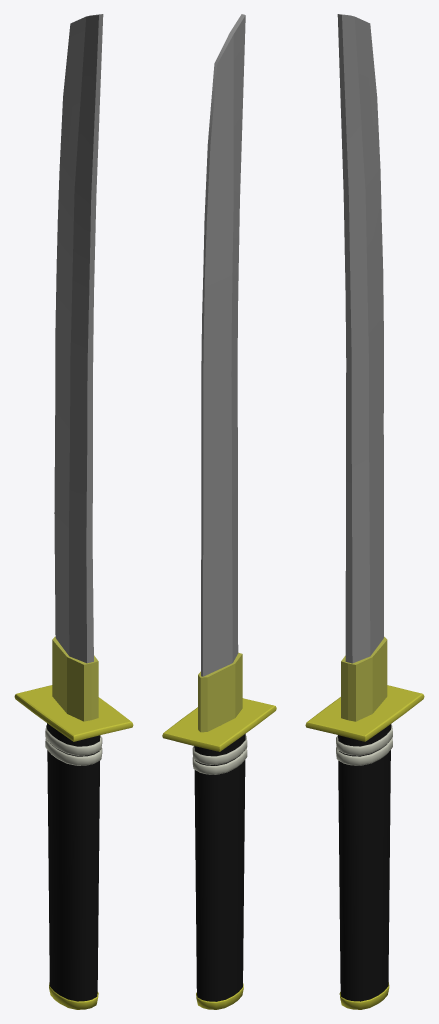
3 renders of one model, left to right at view 1: azimuth 30°, elevation 25°; view 2: azimuth 150°, elevation 25°; view 3: azimuth 330°, elevation 25°, orthographic. The views are drawn at different scales.
Parts seen in each view (by area): view 1: Cube.232; view 2: Cube.232; view 3: Cube.232.
Part boxes in pixels (x1=…): Cube.232: x1=14, y1=14, x2=133, y2=1009; Cube.232: x1=162, y1=14, x2=276, y2=1009; Cube.232: x1=305, y1=14, x2=424, y2=1009.
Bounding box in the file's own units: 13.09 × 203 × 21.79.
